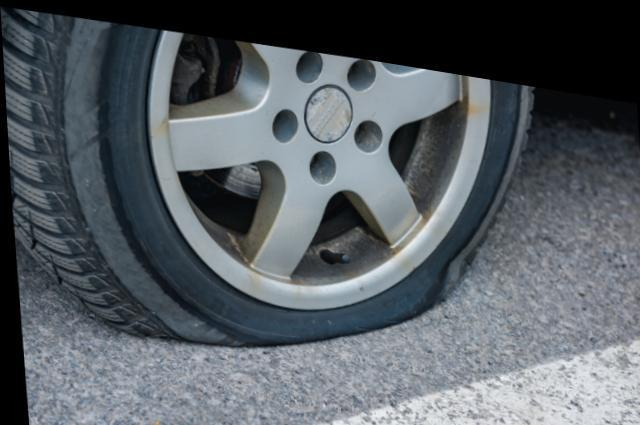tire flat: (0, 6, 533, 340)
